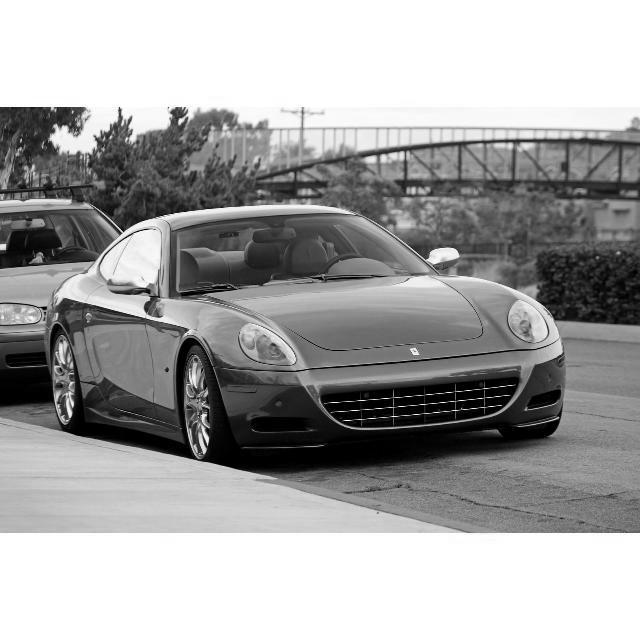front-bumper-dent: (218, 378, 432, 460)
